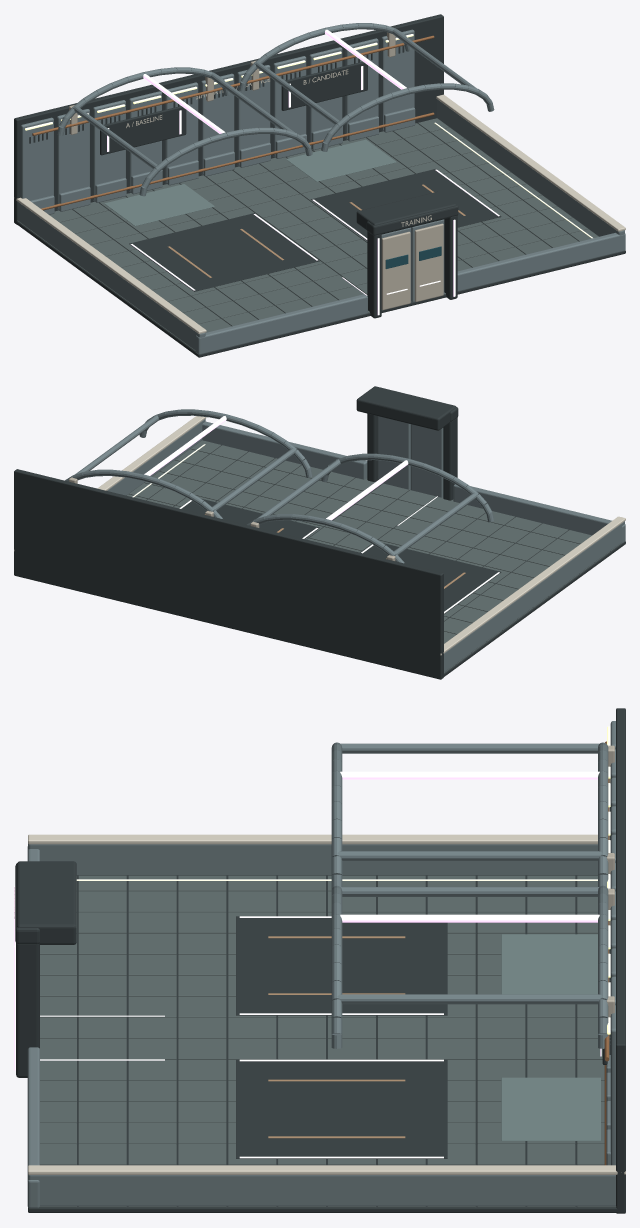
The model's file is gym-shell.glb.
3 renders of one model, top to bottom at view 1: azimuth 30°, elevation 25°; view 2: azimuth 150°, elevation 25°; view 3: azimuth 270°, elevation 25°, orthographic. The views are drawn at different scales.
Parts seen in each view (by area): view 1: Floor_Floor, InteriorRevealBack_Steel, Floor_Graphite, InteriorRevealRail_Steel, InteriorRevealBack_Graphite, InteriorRevealVault_Steel, Floor_Fabric, CutawayEntrance_Graphite, InteriorRevealPractice_Graphite, InteriorRevealRail_Edge, InteriorRevealBack_Copper, DoorLeft_Ivory (+6 smaller); view 2: InteriorRevealBack_Graphite, Floor_Floor, InteriorRevealRail_Steel, InteriorRevealVault_Steel, Floor_Graphite, CutawayEntrance_Graphite, InteriorRevealRail_Edge, DoorLeft_Steel, DoorRight_Steel, InteriorRevealVault_Accent; view 3: Floor_Floor, Floor_Graphite, InteriorRevealRail_Steel, InteriorRevealVault_Steel, Floor_Fabric, InteriorRevealRail_Edge, CutawayEntrance_Graphite, InteriorRevealBack_Graphite, InteriorRevealVault_Accent, InteriorRevealBack_Steel, Floor_Accent, Floor_Linen (+1 smaller).
Boxes of the visible parts, x1,y1,x2,y2 form: Floor_Floor: (17,118,598,351); InteriorRevealBack_Steel: (21,29,415,214); Floor_Graphite: (14,123,625,357); InteriorRevealRail_Steel: (17,99,625,354); InteriorRevealBack_Graphite: (14,14,443,224); InteriorRevealVault_Steel: (57,23,494,196); Floor_Fabric: (104,139,396,225); CutawayEntrance_Graphite: (356,191,458,318); InteriorRevealPractice_Graphite: (100,61,367,155); InteriorRevealRail_Edge: (14,94,625,333); InteriorRevealBack_Copper: (32,35,434,210); DoorLeft_Ivory: (381,231,410,310); InteriorRevealBack_Graphite: (14,469,443,679); Floor_Floor: (127,440,621,673); InteriorRevealRail_Steel: (107,419,625,672); InteriorRevealVault_Steel: (65,409,494,563); Floor_Graphite: (146,446,625,678); CutawayEntrance_Graphite: (356,386,458,500); InteriorRevealRail_Edge: (14,416,625,655); DoorLeft_Steel: (410,424,443,497); DoorRight_Steel: (377,416,410,489); InteriorRevealVault_Accent: (144,416,408,520); Floor_Floor: (39,875,616,1207); Floor_Graphite: (28,876,625,1212); InteriorRevealRail_Steel: (27,844,615,1208); InteriorRevealVault_Steel: (331,742,608,1048); Floor_Fabric: (501,934,600,1140); InteriorRevealRail_Edge: (28,834,625,1174); CutawayEntrance_Graphite: (15,861,76,1077); InteriorRevealBack_Graphite: (609,708,625,1213); InteriorRevealVault_Accent: (340,771,599,922); InteriorRevealBack_Steel: (606,721,615,1165); Floor_Accent: (40,916,443,1158); Floor_Linen: (268,936,405,1138).
Size of the model in its own units: 16 by 4.5 by 12.28.
